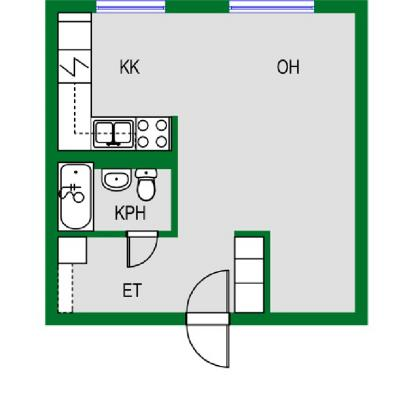door: (184, 265, 236, 373), (128, 233, 156, 266)
window: (229, 0, 313, 13), (97, 0, 165, 13)
zone: (55, 13, 360, 314)
